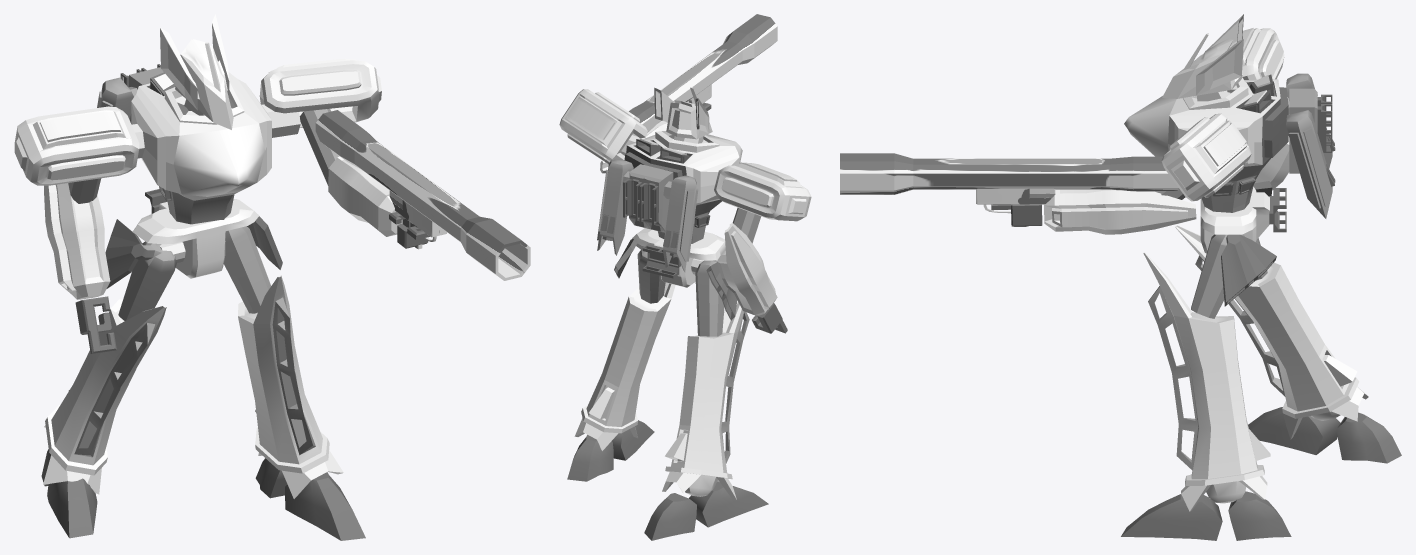
File: heroRoket.fbx
3 renders of one model, left to right at view 1: azimuth 30°, elevation 25°; view 2: azimuth 150°, elevation 25°; view 3: azimuth 270°, elevation 25°, orthographic. The views are drawn at different scales.
Parts seen in each view (by area): view 1: RocketLauncher3:pCube10; view 2: RocketLauncher3:pCube10; view 3: RocketLauncher3:pCube10.
Boxes of the visible parts, x1,y1,x2,y2 form: RocketLauncher3:pCube10: (14, 14, 530, 540); RocketLauncher3:pCube10: (559, 14, 811, 540); RocketLauncher3:pCube10: (840, 14, 1401, 540).
Size of the model in its own units: 106 by 151 by 168.
Materials: 1 (1 with a texture image).
